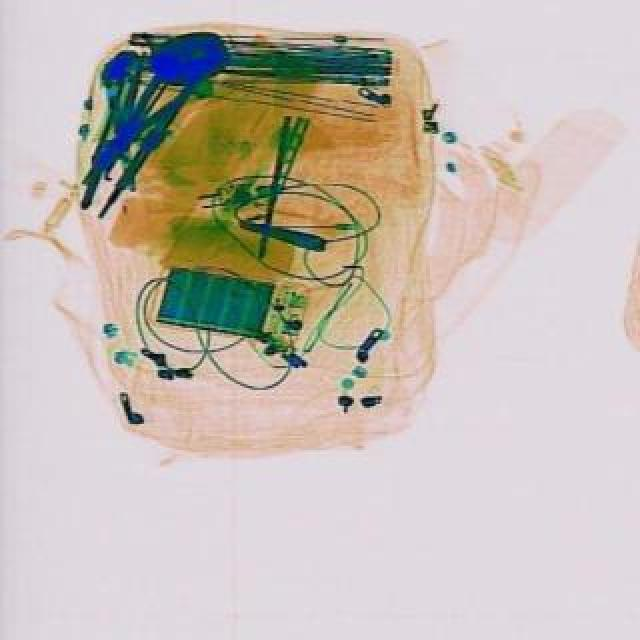wrench: (58, 48, 202, 202)
